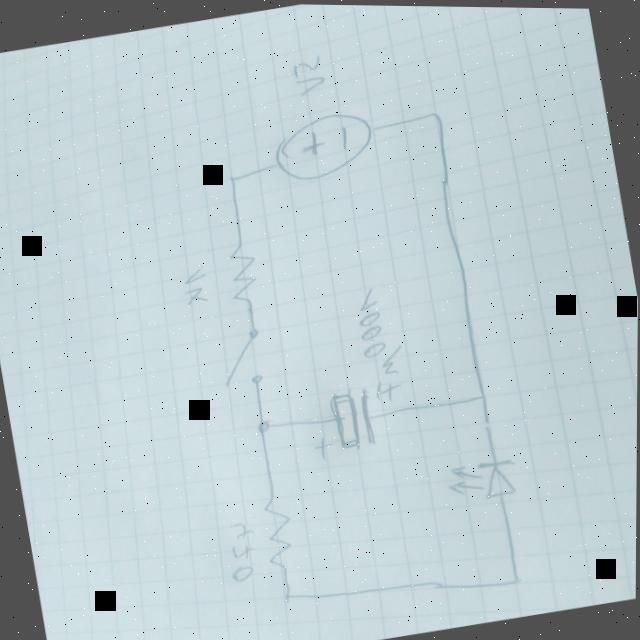capacitor: (301, 378, 383, 463)
diode: (443, 450, 523, 506)
junction: (244, 408, 286, 454), (503, 565, 530, 590), (420, 99, 446, 124), (469, 381, 496, 404), (279, 584, 305, 604), (222, 167, 245, 186)
resistor: (256, 488, 302, 575), (222, 235, 267, 309)
source: (265, 102, 381, 184)
switch: (213, 322, 270, 390)
text: (351, 279, 416, 402), (218, 508, 267, 588), (288, 51, 330, 98), (177, 261, 216, 308)
